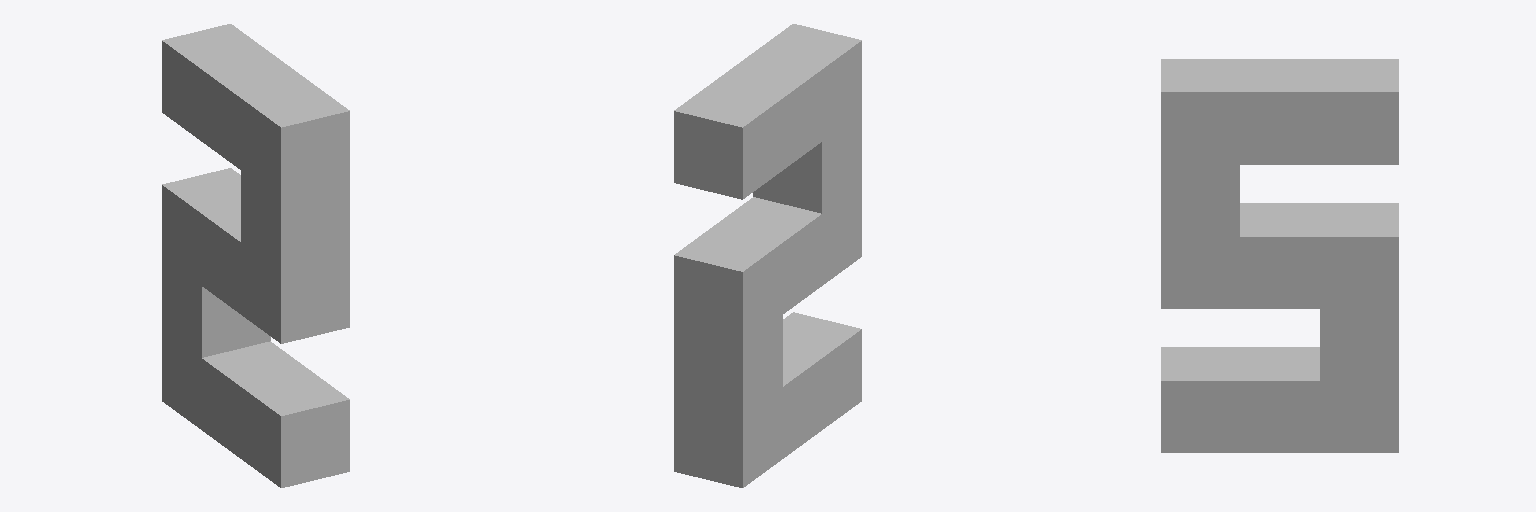
The model's file is character_s.obj.
3 views of the same model, side by side, from view 1: azimuth 30°, elevation 25°; view 2: azimuth 150°, elevation 25°; view 3: azimuth 270°, elevation 25° (orthographic).
Parts seen in each view (by area): view 1: Cube.001; view 2: Cube.001; view 3: Cube.001.
Part boxes in pixels (bbox=[...]): Cube.001: bbox=[162, 24, 349, 487]; Cube.001: bbox=[674, 24, 861, 487]; Cube.001: bbox=[1161, 59, 1398, 452].
Bounding box in the file's own units: 6 × 30 × 18.